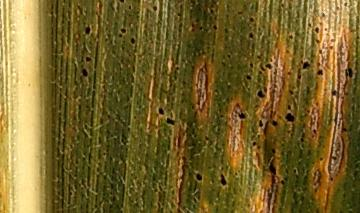tarspot: (266, 174, 280, 213), (267, 158, 279, 177), (71, 60, 79, 87), (219, 172, 228, 187), (284, 112, 296, 123), (165, 116, 177, 126), (329, 31, 337, 45), (236, 111, 248, 120), (83, 23, 92, 35), (344, 67, 353, 79), (256, 88, 265, 99), (194, 172, 203, 182), (157, 106, 166, 116), (304, 85, 311, 97), (299, 131, 306, 143), (302, 60, 311, 69), (244, 73, 254, 81), (264, 62, 274, 70), (84, 54, 92, 64), (283, 167, 291, 177), (257, 118, 264, 129), (119, 26, 127, 35), (80, 68, 88, 77), (270, 119, 279, 127), (219, 60, 228, 68), (314, 25, 321, 35), (258, 62, 265, 72), (247, 16, 255, 24), (151, 5, 159, 13), (341, 126, 349, 134), (129, 36, 136, 45), (211, 23, 218, 32), (317, 47, 323, 57), (247, 31, 254, 39), (330, 89, 337, 97), (316, 69, 324, 76), (287, 32, 294, 40), (313, 38, 321, 45), (236, 10, 244, 17), (305, 22, 313, 29), (287, 131, 294, 139), (297, 73, 303, 82), (321, 11, 327, 20), (300, 122, 306, 131), (270, 148, 277, 155), (287, 88, 294, 95), (255, 54, 262, 61), (342, 1, 349, 8), (334, 5, 341, 12), (323, 26, 330, 33), (278, 2, 285, 9), (117, 32, 123, 40), (255, 143, 261, 151), (286, 103, 292, 111), (203, 134, 209, 142), (223, 27, 229, 35), (327, 45, 335, 51), (312, 127, 318, 135), (225, 53, 232, 59), (279, 179, 285, 186), (251, 140, 257, 147), (248, 62, 254, 69), (330, 155, 337, 161), (208, 8, 215, 14), (176, 11, 181, 19), (341, 191, 346, 199), (174, 65, 180, 71), (197, 25, 203, 31), (354, 34, 360, 40), (318, 156, 324, 162), (103, 37, 109, 43), (314, 206, 320, 212), (127, 4, 132, 11), (286, 70, 291, 76), (292, 168, 297, 174), (286, 128, 291, 134), (329, 175, 333, 182), (257, 70, 262, 75), (117, 1, 125, 4), (346, 209, 352, 213), (338, 210, 343, 213)
